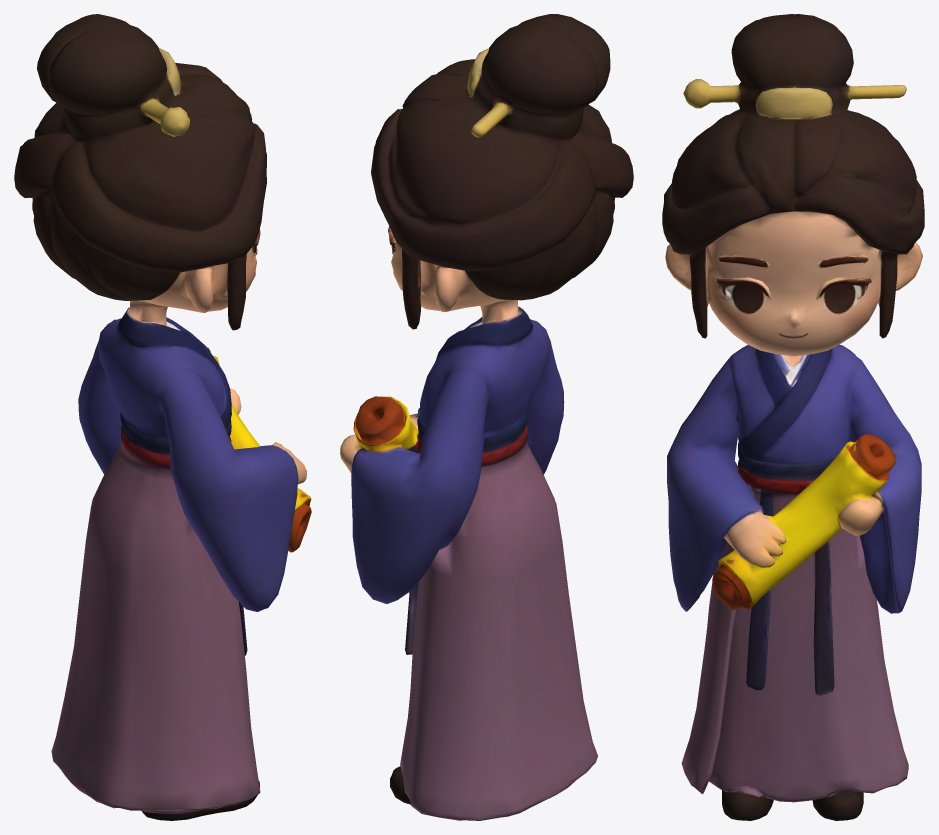
Rendered from heichi.glb.
3 views of the same model, side by side, from view 1: azimuth 30°, elevation 25°; view 2: azimuth 150°, elevation 25°; view 3: azimuth 270°, elevation 25° (orthographic). The views are drawn at different scales.
Parts seen in each view (by area): view 1: tripo_node_0746091c-7708-4247-85ab-e0a187905aea; view 2: tripo_node_0746091c-7708-4247-85ab-e0a187905aea; view 3: tripo_node_0746091c-7708-4247-85ab-e0a187905aea.
Part boxes in pixels (bbox=[...]): tripo_node_0746091c-7708-4247-85ab-e0a187905aea: bbox=[14, 14, 311, 820]; tripo_node_0746091c-7708-4247-85ab-e0a187905aea: bbox=[340, 14, 633, 820]; tripo_node_0746091c-7708-4247-85ab-e0a187905aea: bbox=[662, 14, 924, 820].
Bounding box in the file's own units: 0.321 × 1 × 0.319.
1 material, 1 textured.
